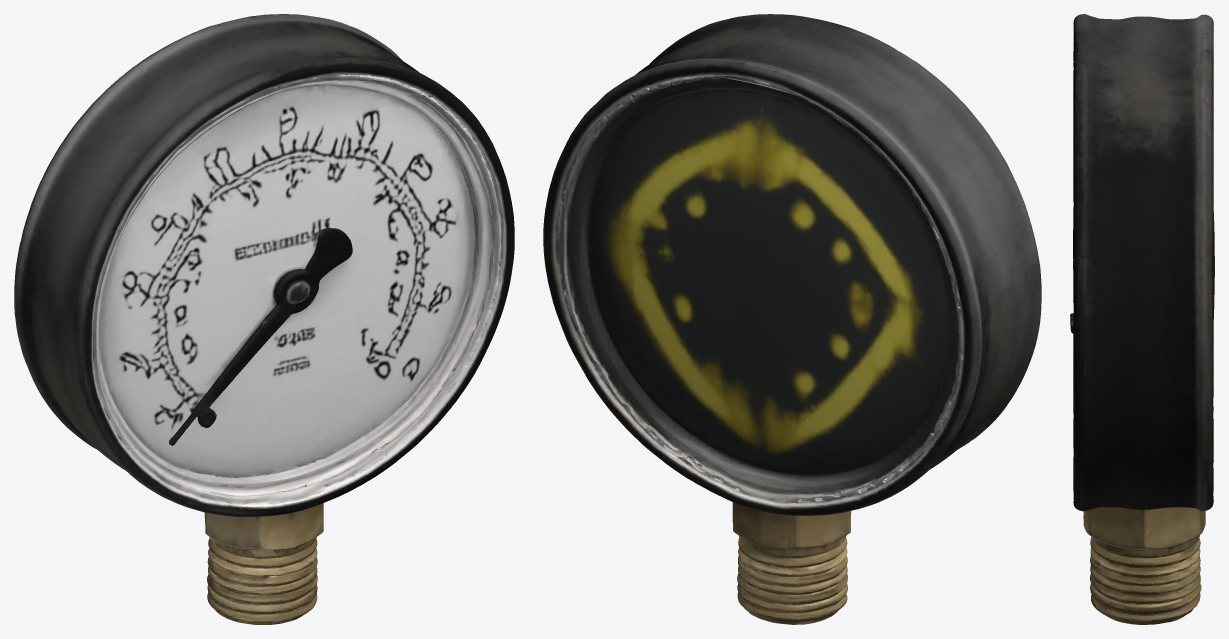
3 views of the same model, side by side, from view 1: azimuth 30°, elevation 25°; view 2: azimuth 150°, elevation 25°; view 3: azimuth 270°, elevation 25° (orthographic).
Parts seen in each view (by area): view 1: geometry_0; view 2: geometry_0; view 3: geometry_0.
Part boxes in pixels (bbox=[...]): geometry_0: bbox=[14, 14, 514, 624]; geometry_0: bbox=[543, 14, 1041, 624]; geometry_0: bbox=[1070, 14, 1214, 624].
Bounding box in the file's own units: 0.0774 × 0.095 × 0.022.
Materials: 1 (1 with a texture image).
